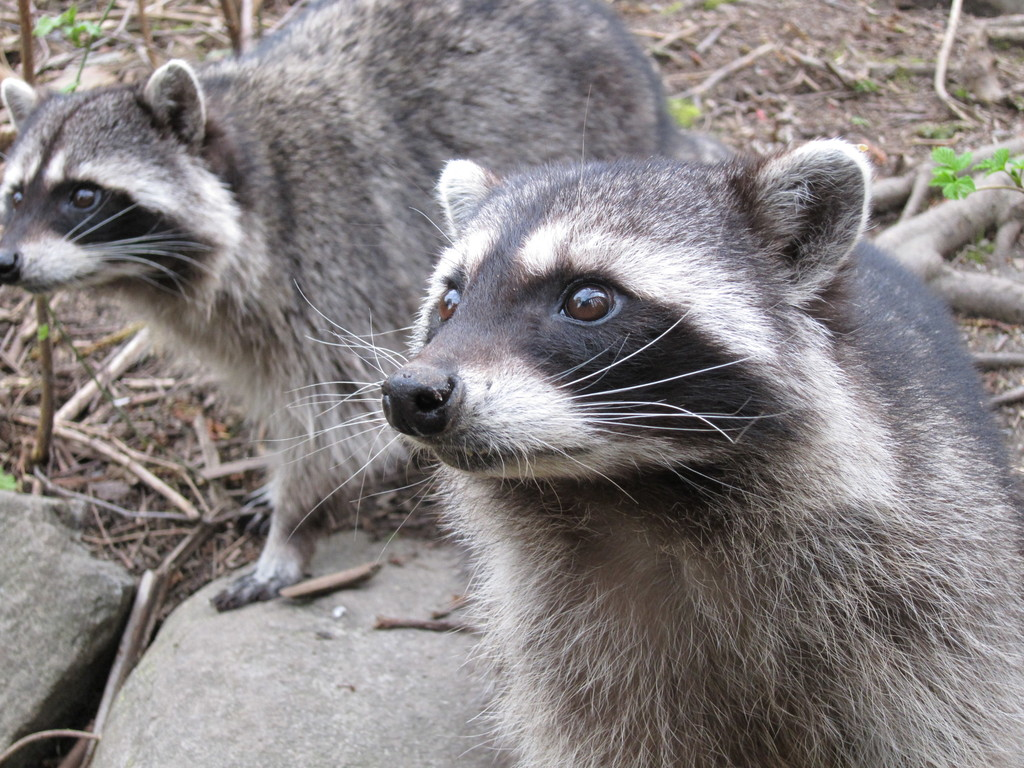raccoon: (1, 4, 681, 608), (376, 138, 1024, 768)
